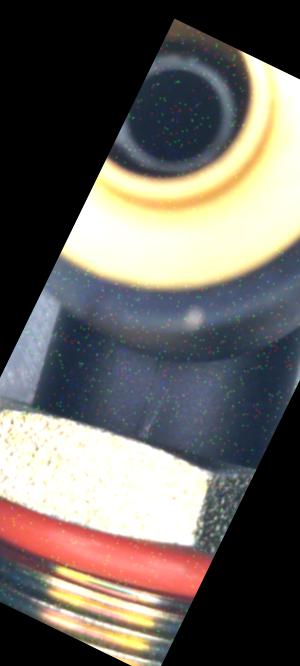joint line: (133, 355, 170, 410)
white mark: (134, 399, 167, 445)
